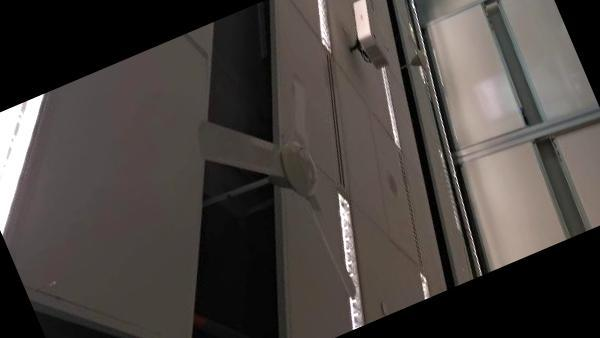light_on: (291, 182, 400, 333), (0, 92, 98, 248), (357, 57, 426, 161), (288, 0, 359, 59), (405, 261, 441, 302)
